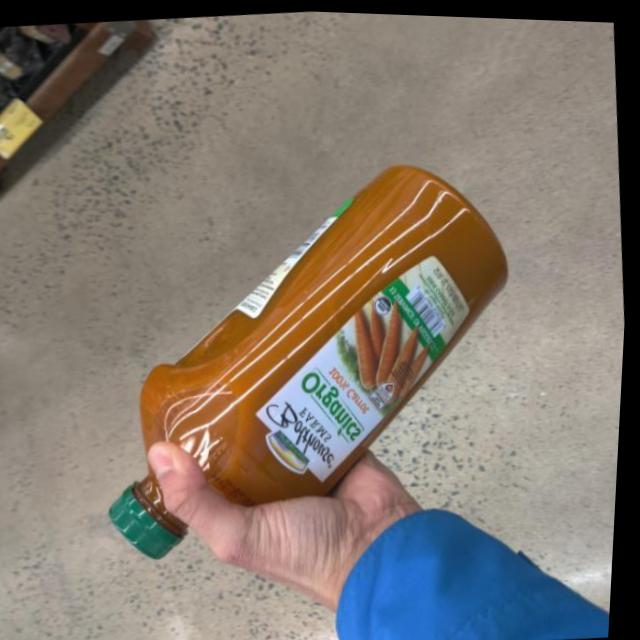Juice: (81, 148, 535, 573)
